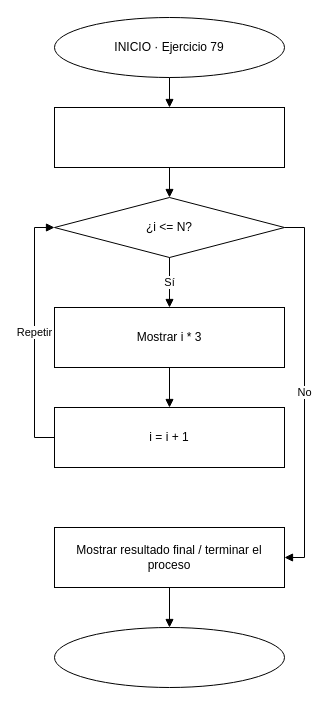
The diagram is 330 pixels wide and 705 high, and some of its shapes have lost their labels. Each missing label, with the box of its shape:
FIN: (54, 626, 284, 688)
Leer N; i = 1: (54, 106, 284, 168)
